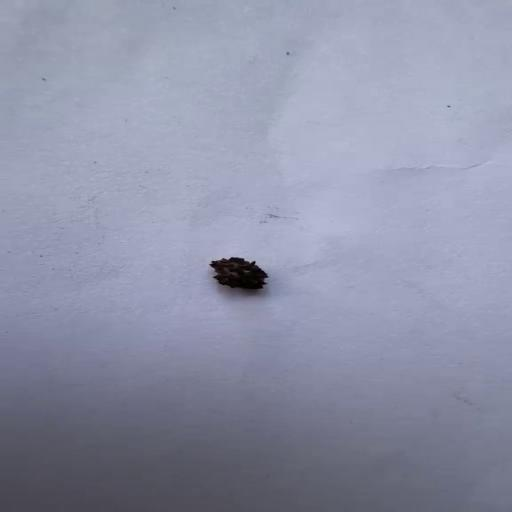papaya_seed: (207, 254, 271, 291)
